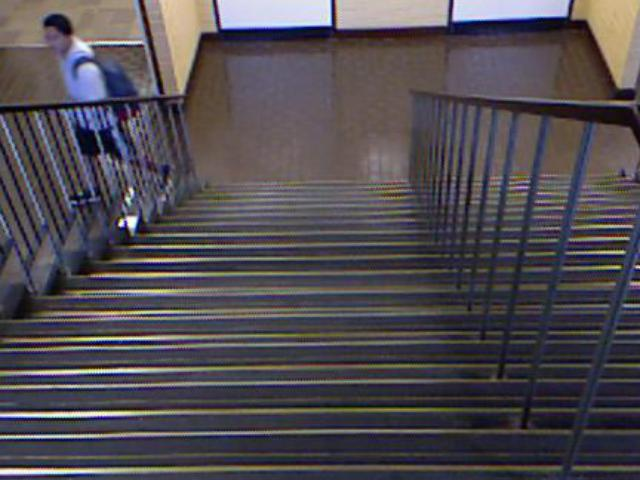Escaleras: (0, 172, 488, 480), (402, 166, 640, 480)
